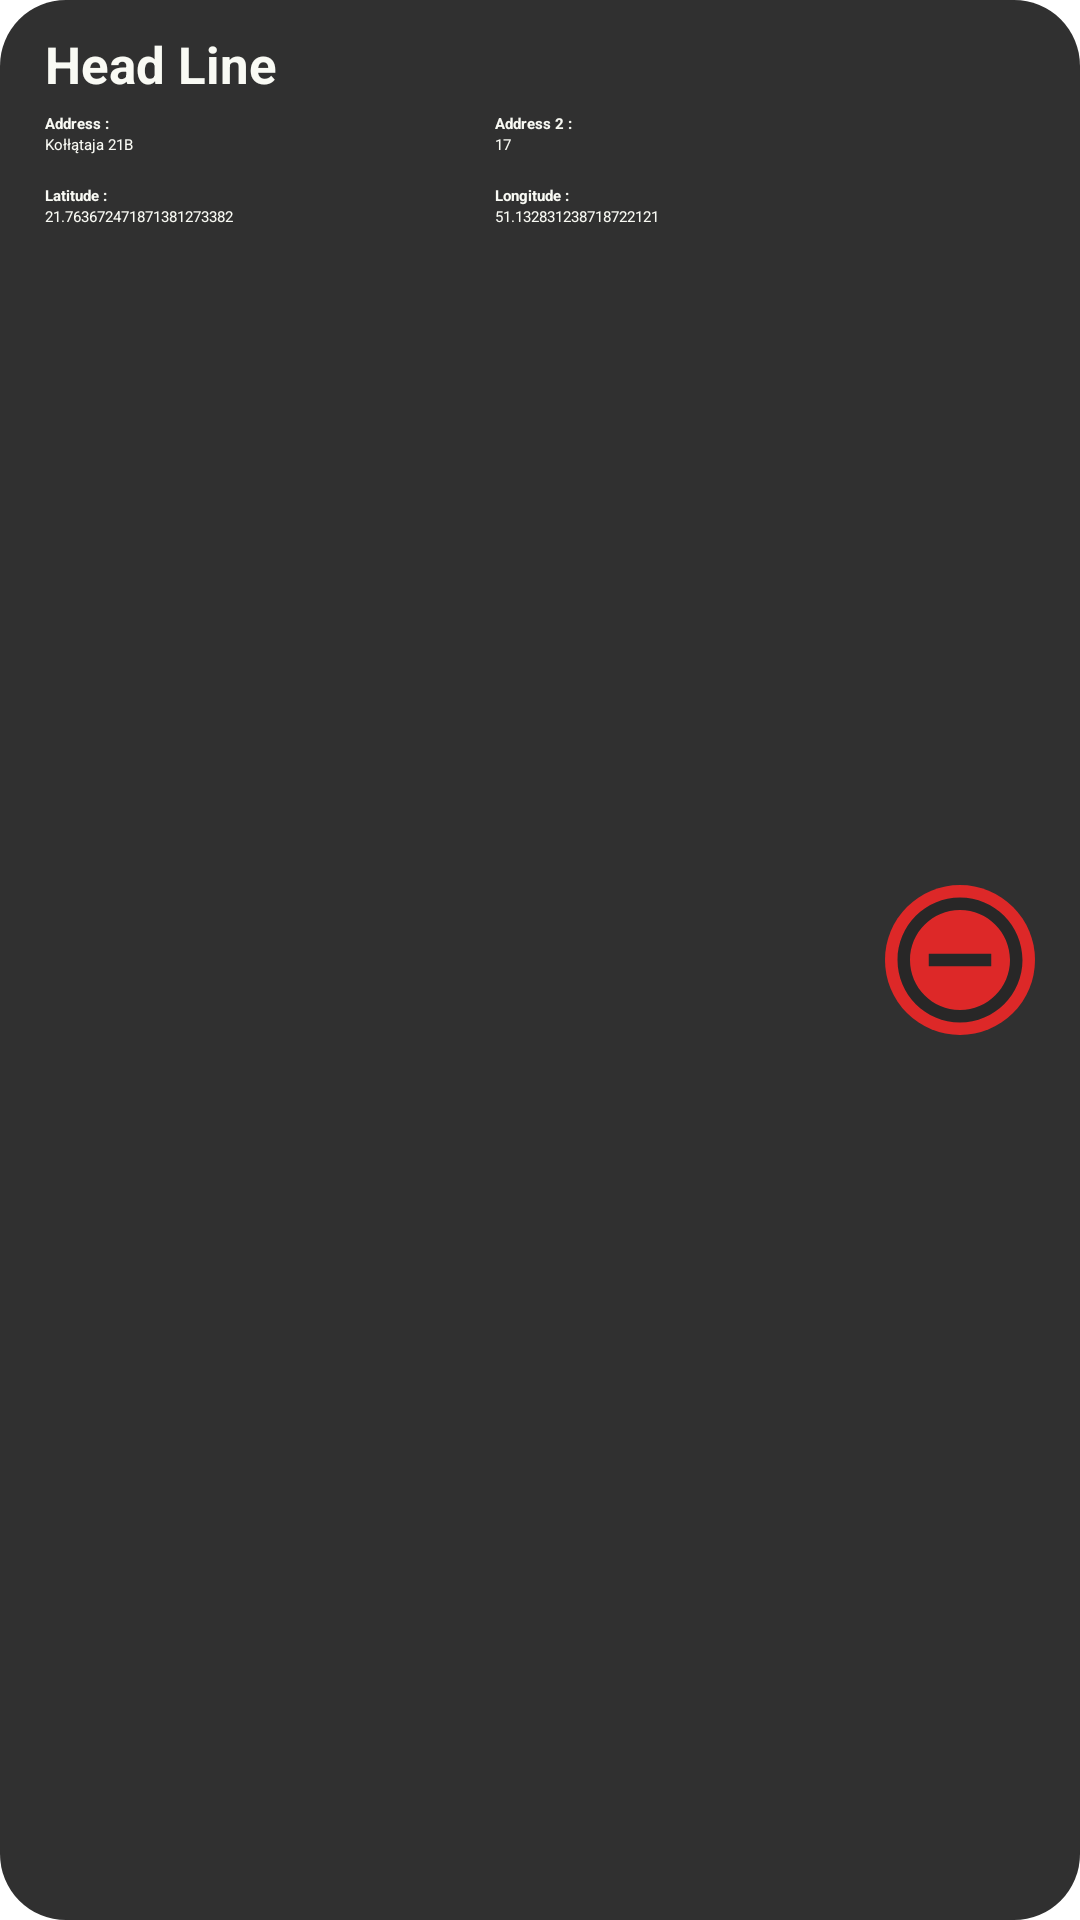

Named icons in this screenshot (1080*1920) and their bounding boxes, Rect(x1, y1, x2, y2):
remove circle: Rect(885, 885, 1035, 1035)
